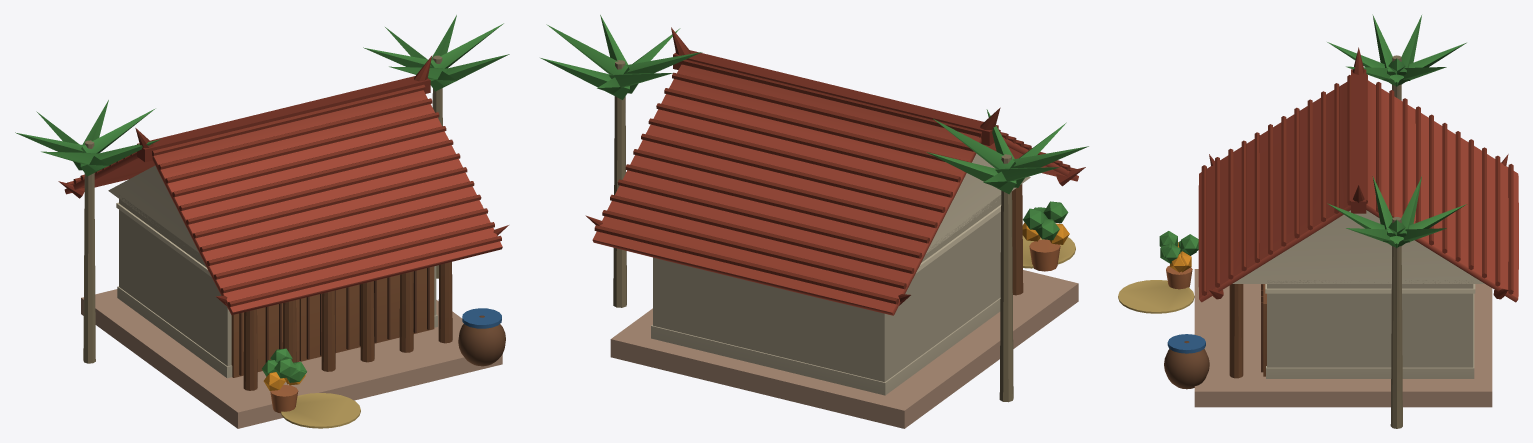
Rendered from hs-14rgtr.glb.
The picture shows the model from 3 angles, left to right: view 1: azimuth 30°, elevation 25°; view 2: azimuth 150°, elevation 25°; view 3: azimuth 270°, elevation 25°; orthographic projection. The views are drawn at different scales.
Bounding box in the file's own units: 13.71 × 6.65 × 10.49.
